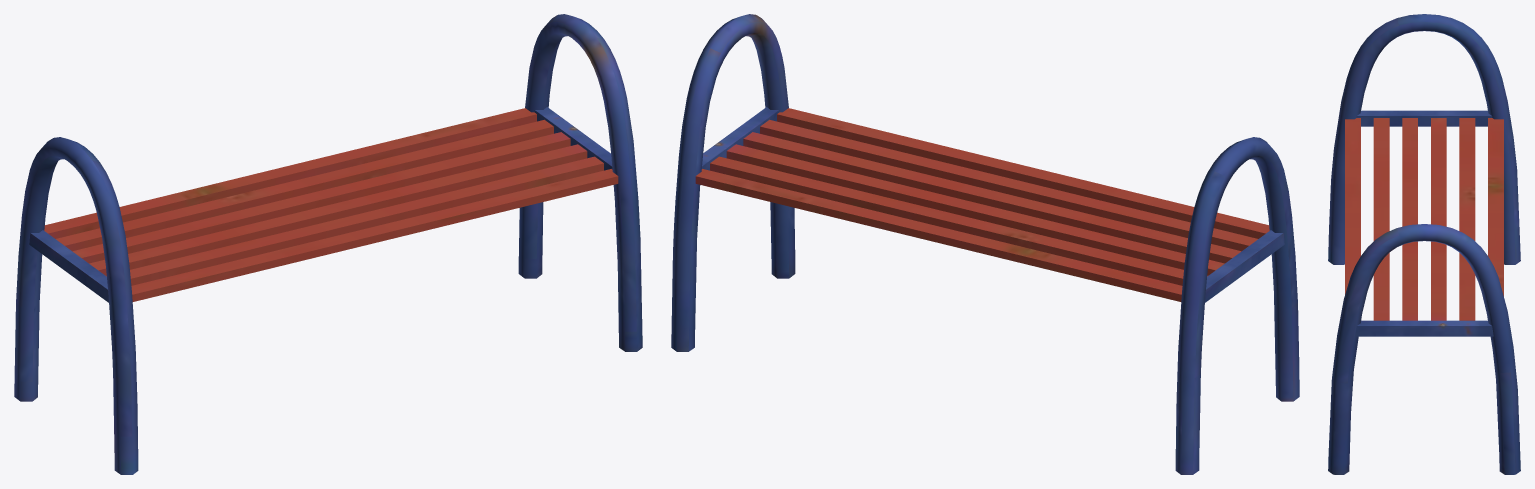
Rendered from bench_401.glb.
3 renders of one model, left to right at view 1: azimuth 30°, elevation 25°; view 2: azimuth 150°, elevation 25°; view 3: azimuth 270°, elevation 25°, orthographic. The views are drawn at different scales.
Visible parts, largest first — view 1: bench_401; view 2: bench_401; view 3: bench_401.
Part boxes in pixels (x1,y1,x2,y2): bench_401: (14,14,642,474); bench_401: (671,14,1299,474); bench_401: (1328,14,1520,474).
Size of the model in its own units: 1.6 by 0.85 by 0.6.
1 material, 1 textured.
